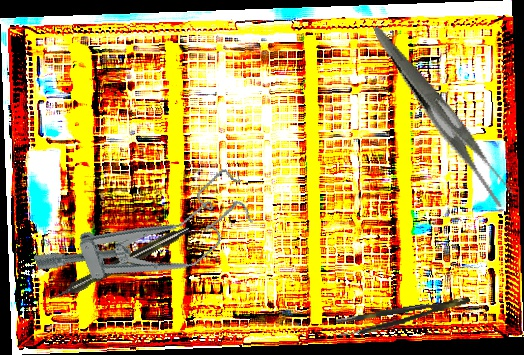Dressing Forceps: (373, 2, 516, 228)
Handpiece: (47, 222, 192, 306)
Speculum: (27, 164, 263, 317)
Tissue Forceps: (335, 294, 473, 339)
